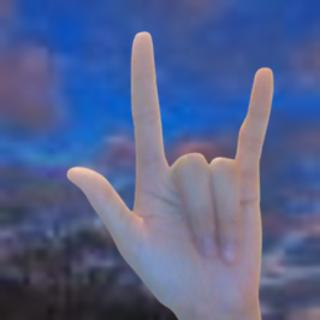ILY: (59, 25, 282, 320)
